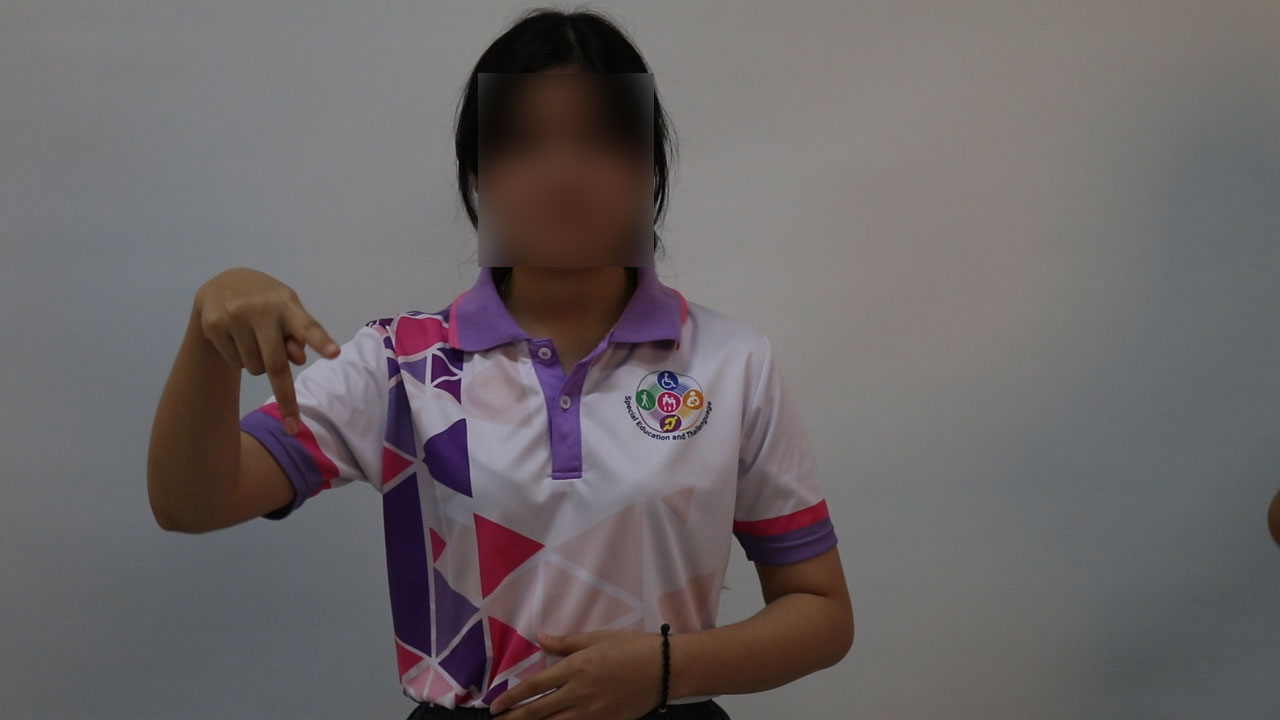por: (160, 244, 351, 441)
